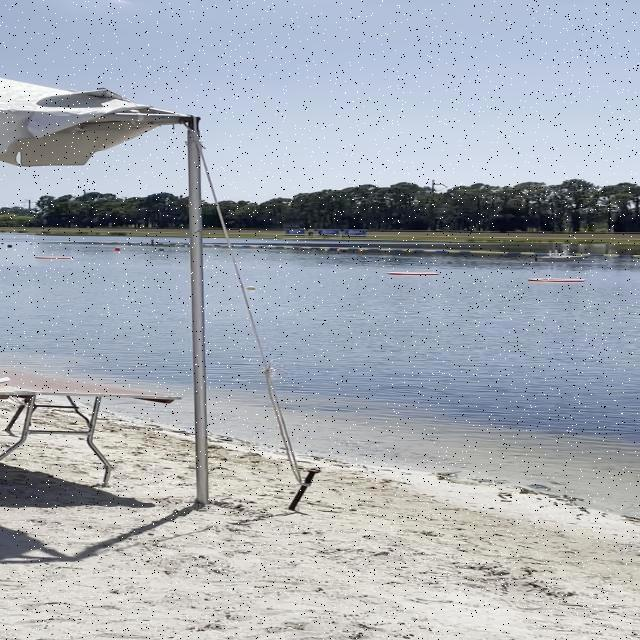buoy: (246, 285, 255, 290), (114, 246, 121, 252), (160, 247, 166, 252), (8, 244, 12, 248)
